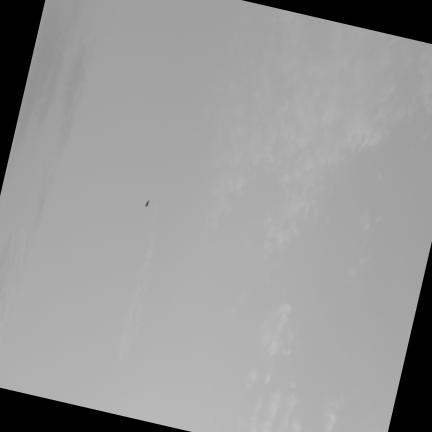Shahed: (144, 199, 149, 207)
